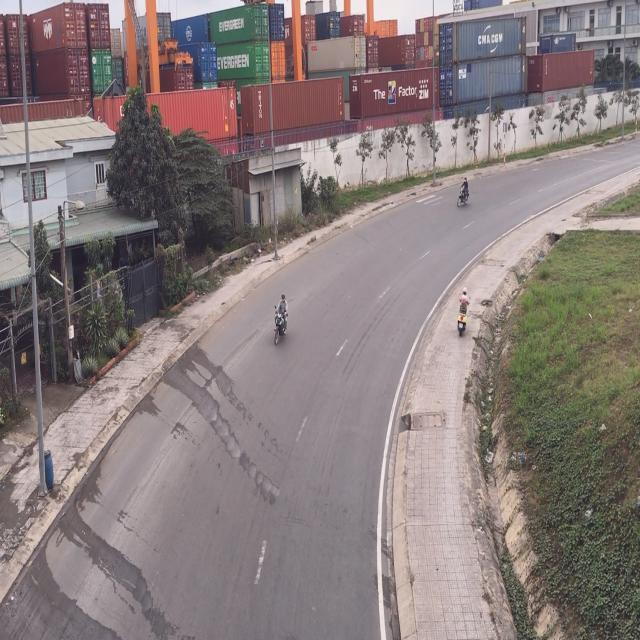motorbike: (271, 293, 290, 349), (456, 289, 468, 336), (456, 175, 471, 209)
